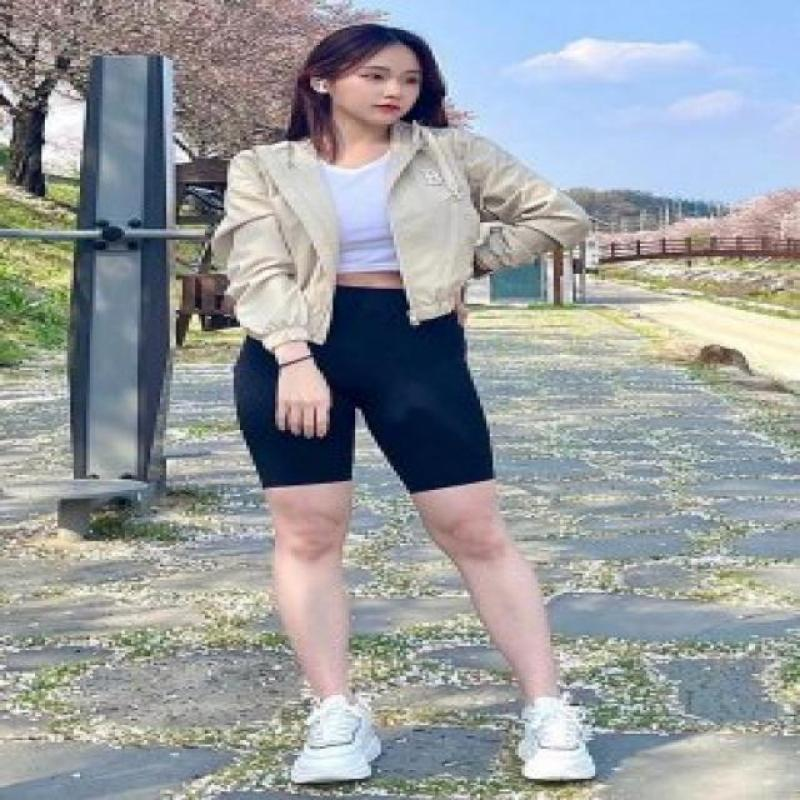Shorts: (229, 285, 504, 495)
jacket: (208, 122, 593, 351)
vest: (314, 146, 408, 279)
